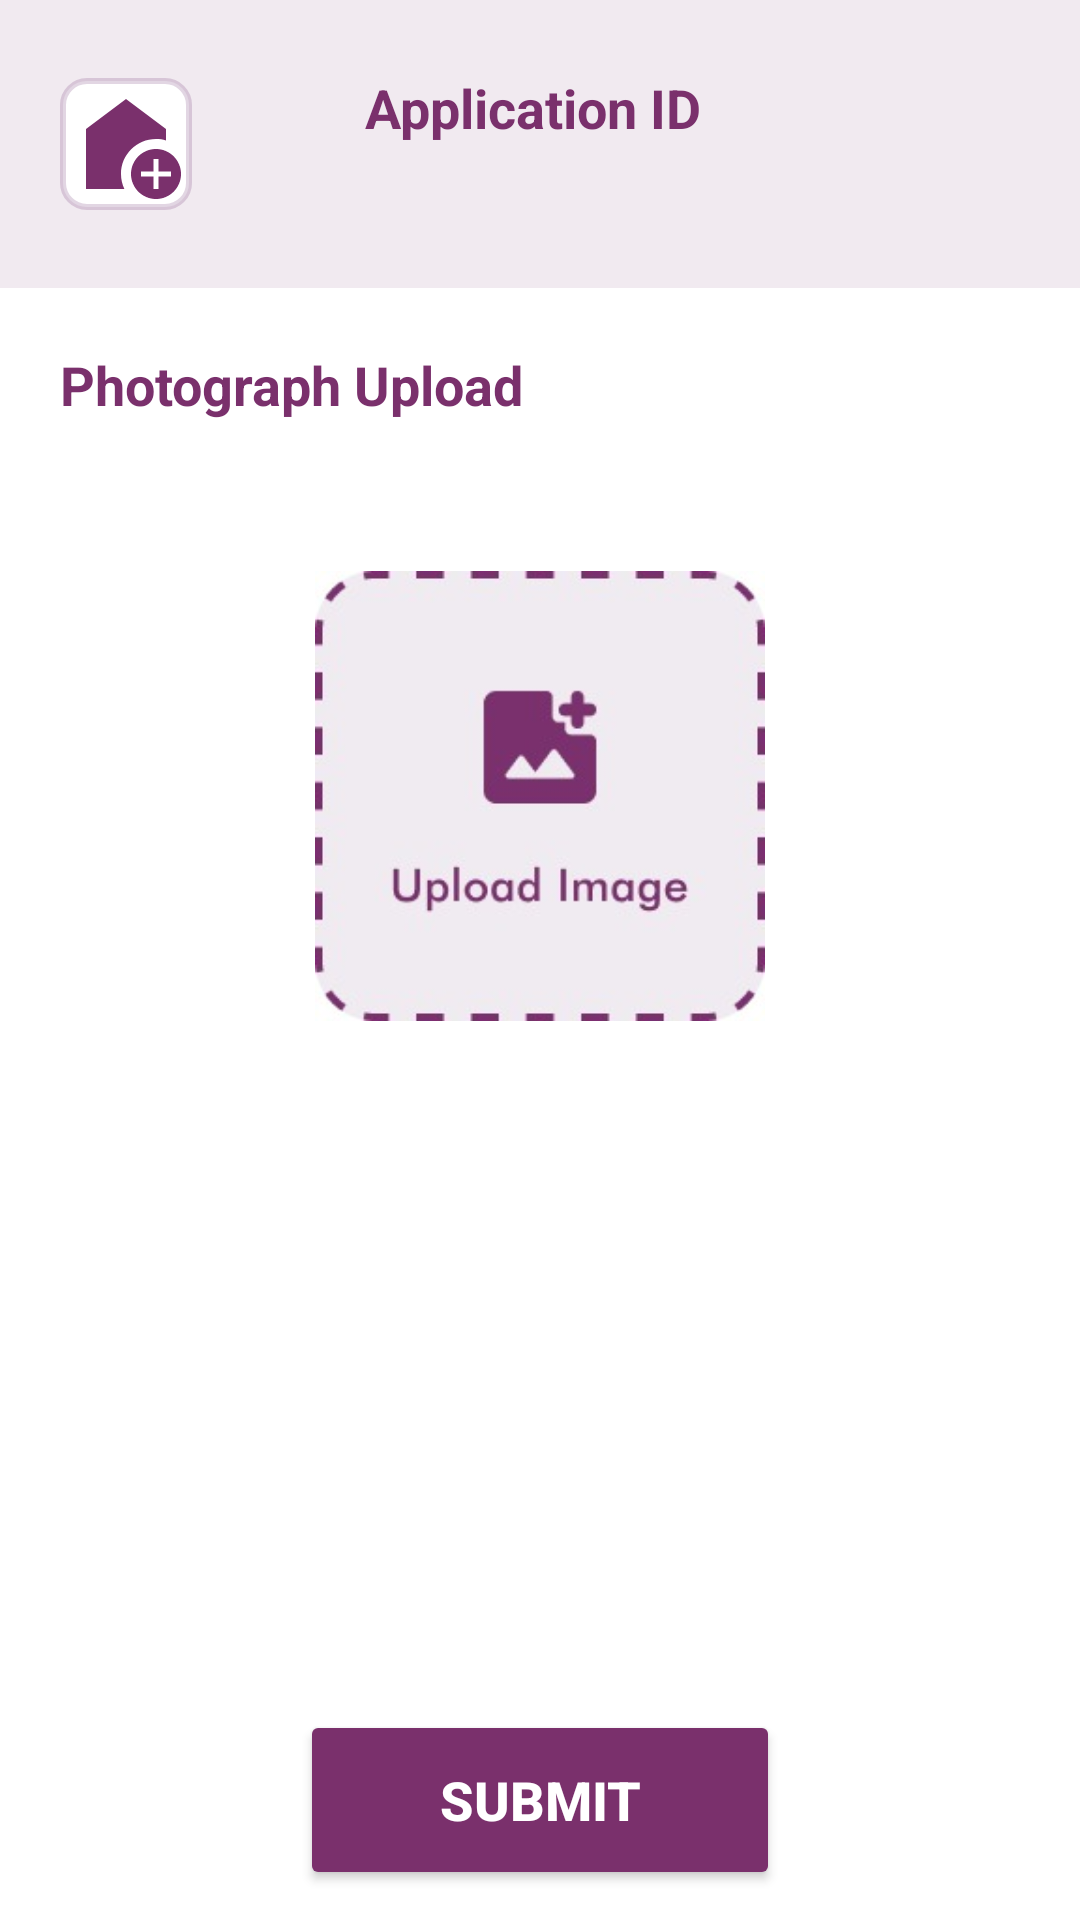

Locate icon controls on the screen. Image size 1080 × 1920, boxes as (x1, y1, x2, y2).
add home: (60, 78, 192, 210)
